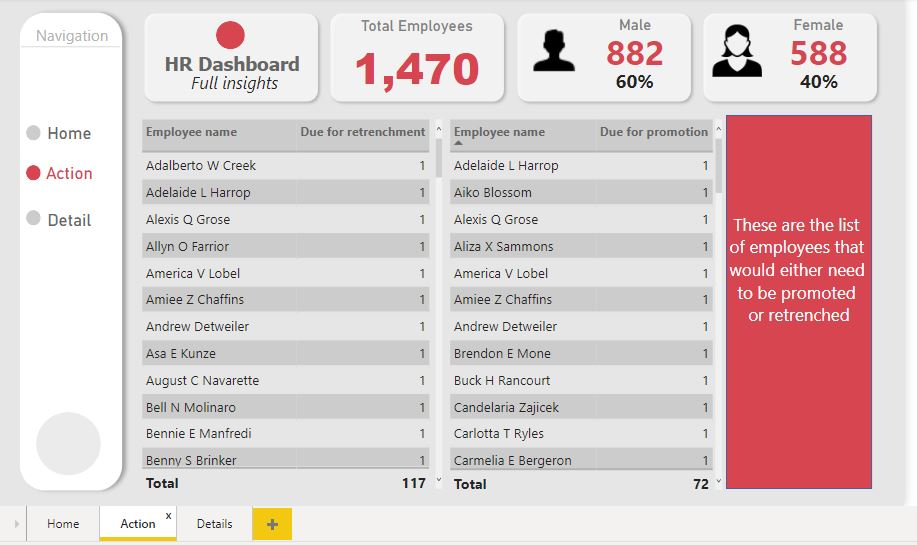

This screenshot's page, from the dashboard's own definition file:
{"tool":"powerbi","page":{"name":"Action","canvas":[1280,720],"ordinal":1},"visuals":[{"type":"shape","box":[1028.6,166.2,207,530.1],"z":0},{"type":"shape","box":[16.5,9.6,166.5,699.2],"z":1000},{"type":"shape","box":[195.4,12.4,264.3,143.1],"z":2000},{"type":"shape","box":[459.7,12.4,264.3,143.1],"z":3000},{"type":"shape","box":[724,12.4,264.3,143.1],"z":4000},{"type":"shape","box":[988.2,12.4,264.3,143.1],"z":5000},{"type":"textbox","box":[209.7,71.2,238.7,51.4],"z":6000},{"type":"textbox","box":[36.9,33,130.5,51.4],"z":7000},{"type":"textbox","box":[209.7,97.6,251.9,55.4],"z":8000},{"type":"shape","box":[305.9,33,40.9,39.6],"z":9000},{"type":"card","title":"Total Employees","fields":{"Values":["All Measures.Total Emp"]},"box":[468,27.5,246.4,112.9],"z":10000},{"type":"card","title":"Male","fields":{"Values":["All Measures.Male"]},"box":[814.8,26.2,170.7,75.7],"z":11000},{"type":"card","fields":{"Values":["All Measures.Male %"]},"box":[834.1,90.8,132.1,55.1],"z":12000},{"type":"card","title":"Female","fields":{"Values":["All Measures.Female"]},"box":[1068.7,26.2,183.1,75.7],"z":13000},{"type":"card","fields":{"Values":["All Measures.Female %"]},"box":[1083.9,90.8,152.8,53.7],"z":14000},{"type":"image","box":[736.3,26.2,95,90.8],"z":15000},{"type":"image","box":[1004.7,33,79.8,84],"z":16000},{"type":"tableEx","fields":{"Values":["HR employee data.Emplyee name","All Measures.Due for retirment"]},"box":[195.4,166.5,436.3,542.3],"z":17000},{"type":"tableEx","fields":{"Values":["HR employee data.Emplyee name","All Measures.Due for promotion"]},"box":[631.7,166.5,396.4,543.7],"z":18000},{"type":"textbox","box":[1029.3,299.6,206.6,217.4],"z":19000},{"type":"shape","box":[36.9,300.7,21.1,22.4],"z":20000},{"type":"actionButton","title":"Detail","box":[27.7,300.7,139.8,58],"z":21000},{"type":"shape","box":[36.9,236,21.1,22.4],"z":22000},{"type":"actionButton","title":"Action","box":[27.7,233.4,139.8,65.9],"z":23000},{"type":"shape","box":[36.9,180.7,21.1,22.4],"z":24000},{"type":"actionButton","title":"Home","box":[27.7,176.7,139.8,56.7],"z":25000},{"type":"shape","box":[51.4,586.8,92.3,89.7],"z":26000},{"type":"shape","box":[30.2,61.6,140.1,15.7],"z":27000}]}

Visuals, with their boxes on the page's 1280x720 design canvas (x1, y1, x2, y2). These are canvas units, not pixel positions in the 917x545 screenshot, which may show the page scaled, cropped or inside an application window:
shape: pyautogui.locateOnScreen(1029, 166, 1236, 696)
shape: pyautogui.locateOnScreen(16, 10, 183, 709)
shape: pyautogui.locateOnScreen(195, 12, 460, 156)
shape: pyautogui.locateOnScreen(460, 12, 724, 156)
shape: pyautogui.locateOnScreen(724, 12, 988, 156)
shape: pyautogui.locateOnScreen(988, 12, 1252, 156)
textbox: pyautogui.locateOnScreen(210, 71, 448, 123)
textbox: pyautogui.locateOnScreen(37, 33, 167, 84)
textbox: pyautogui.locateOnScreen(210, 98, 462, 153)
shape: pyautogui.locateOnScreen(306, 33, 347, 73)
"Total Employees" card: pyautogui.locateOnScreen(468, 28, 714, 140)
"Male" card: pyautogui.locateOnScreen(815, 26, 986, 102)
card - All Measures.Male %: pyautogui.locateOnScreen(834, 91, 966, 146)
"Female" card: pyautogui.locateOnScreen(1069, 26, 1252, 102)
card - All Measures.Female %: pyautogui.locateOnScreen(1084, 91, 1237, 144)
image: pyautogui.locateOnScreen(736, 26, 831, 117)
image: pyautogui.locateOnScreen(1005, 33, 1084, 117)
tableEx - HR employee data.Emplyee name x All Measures.Due for retirment: pyautogui.locateOnScreen(195, 166, 632, 709)
tableEx - HR employee data.Emplyee name x All Measures.Due for promotion: pyautogui.locateOnScreen(632, 166, 1028, 710)
textbox: pyautogui.locateOnScreen(1029, 300, 1236, 517)
shape: pyautogui.locateOnScreen(37, 301, 58, 323)
"Detail" actionButton: pyautogui.locateOnScreen(28, 301, 168, 359)
shape: pyautogui.locateOnScreen(37, 236, 58, 258)
"Action" actionButton: pyautogui.locateOnScreen(28, 233, 168, 299)
shape: pyautogui.locateOnScreen(37, 181, 58, 203)
"Home" actionButton: pyautogui.locateOnScreen(28, 177, 168, 233)
shape: pyautogui.locateOnScreen(51, 587, 144, 676)
shape: pyautogui.locateOnScreen(30, 62, 170, 77)
